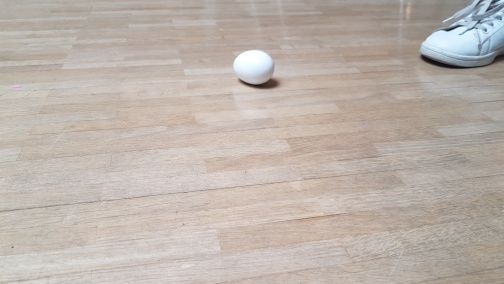egg: (231, 48, 275, 87)
